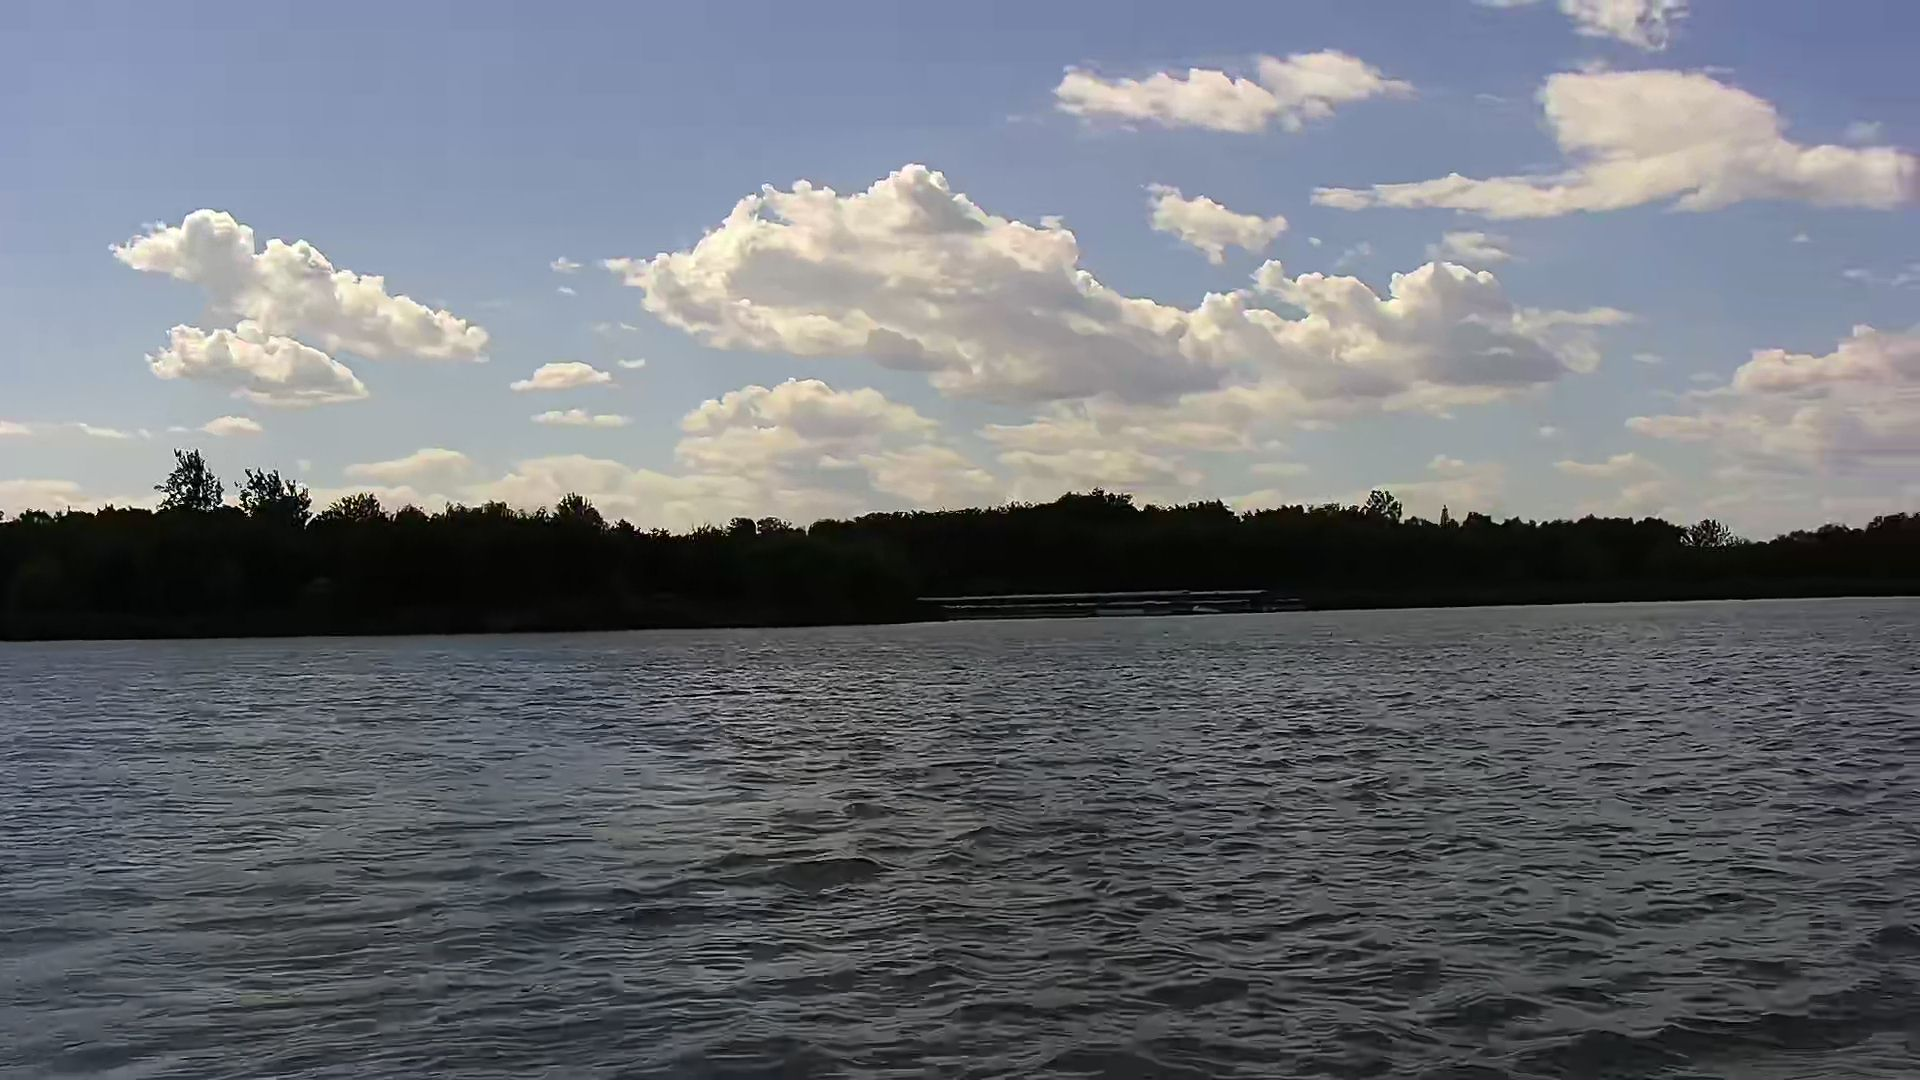bridge: (916, 593, 1263, 616)
